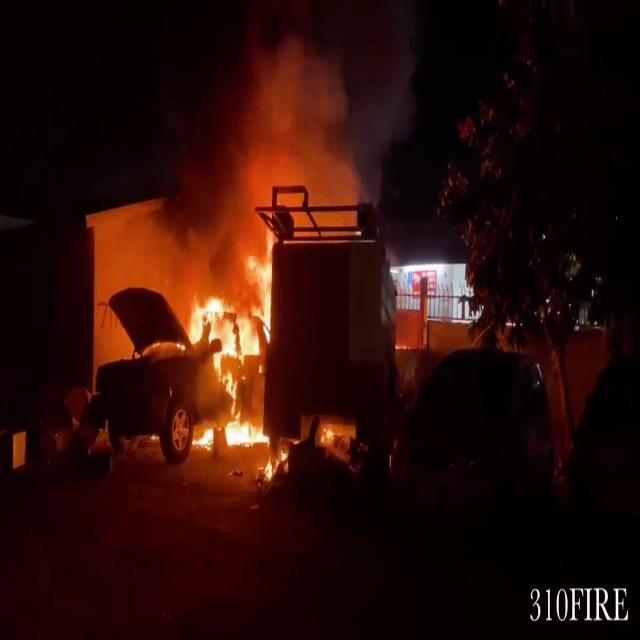Fire: (184, 239, 270, 441), (259, 440, 288, 483)
Smoke: (142, 15, 394, 245)
